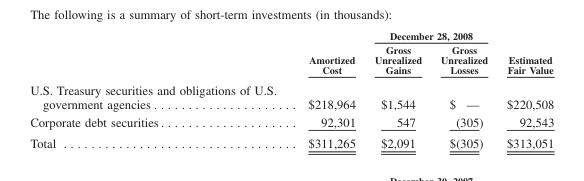table: (29, 29, 553, 150)
table column: (29, 29, 291, 150), (291, 29, 364, 150), (364, 29, 430, 150), (430, 29, 496, 150), (496, 29, 553, 150)
table column header: (29, 29, 553, 79)
table row: (29, 42, 553, 79), (29, 79, 553, 112), (29, 112, 553, 132), (29, 132, 553, 150), (29, 29, 553, 42)
table spanning cell: (291, 29, 364, 79), (496, 29, 553, 79), (364, 29, 496, 42)
